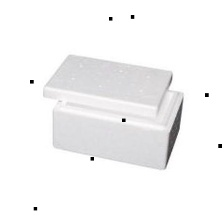foam_box: (36, 46, 190, 174)
